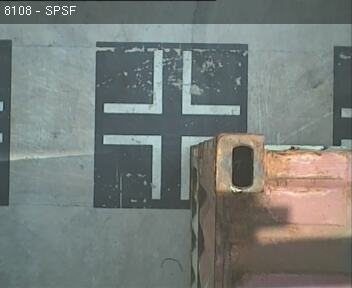groundmarker_1: (103, 50, 240, 116), (103, 134, 213, 199)
